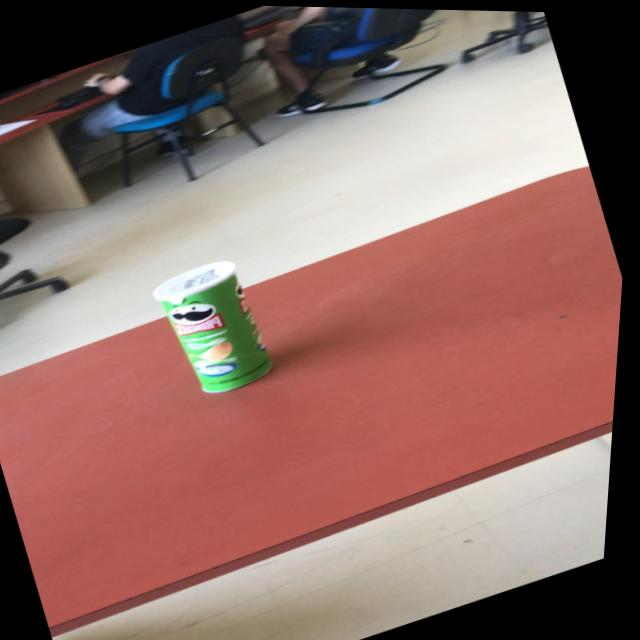a pringles: (147, 247, 292, 406)
